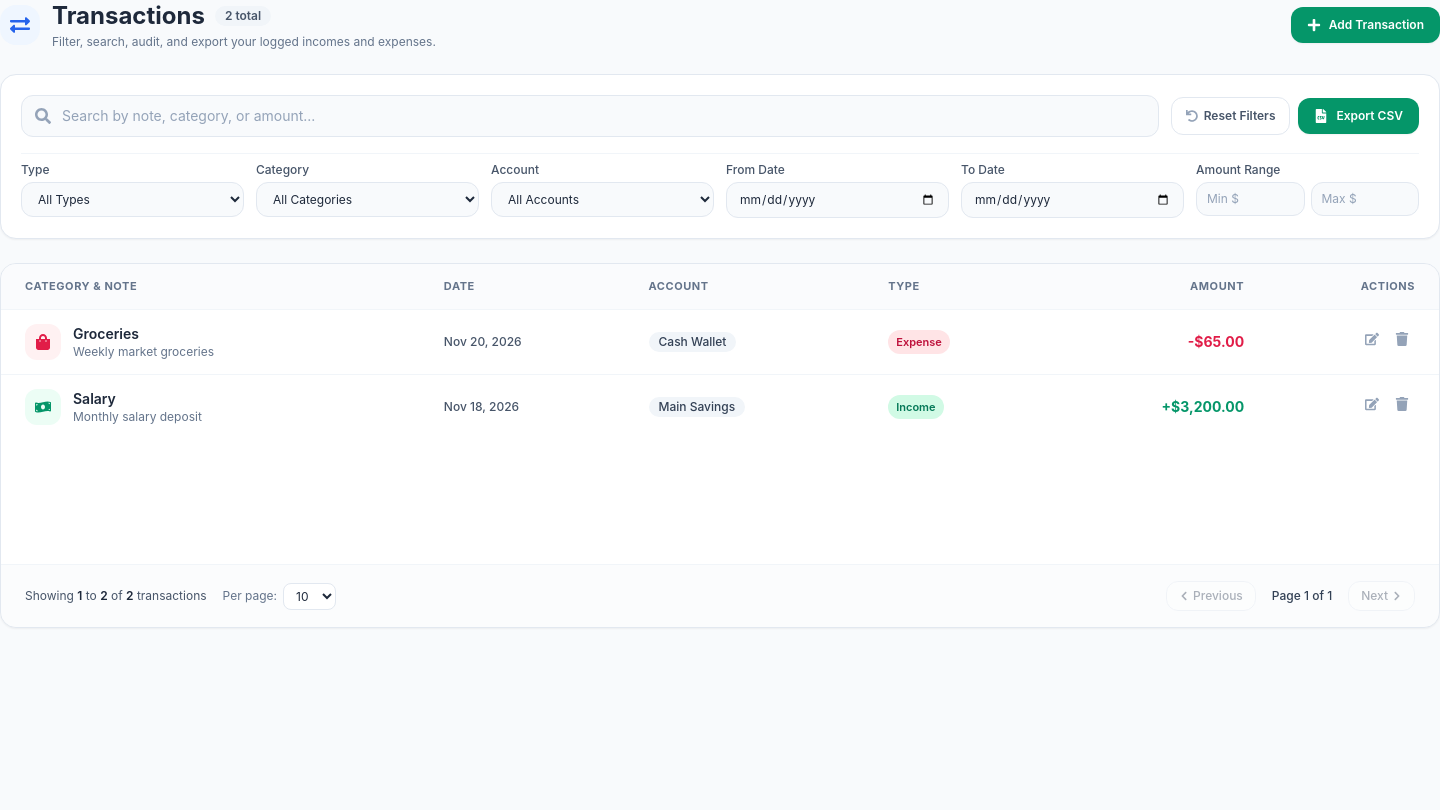
Test: TransactionsPage Component › opens TransactionModal in Edit mode when row edit button is clicked
This screenshot has width=1440, height=810.
Click the button named "edit transaction".
click(1372, 339)  # box left=1359, top=326, right=1385, bottom=352
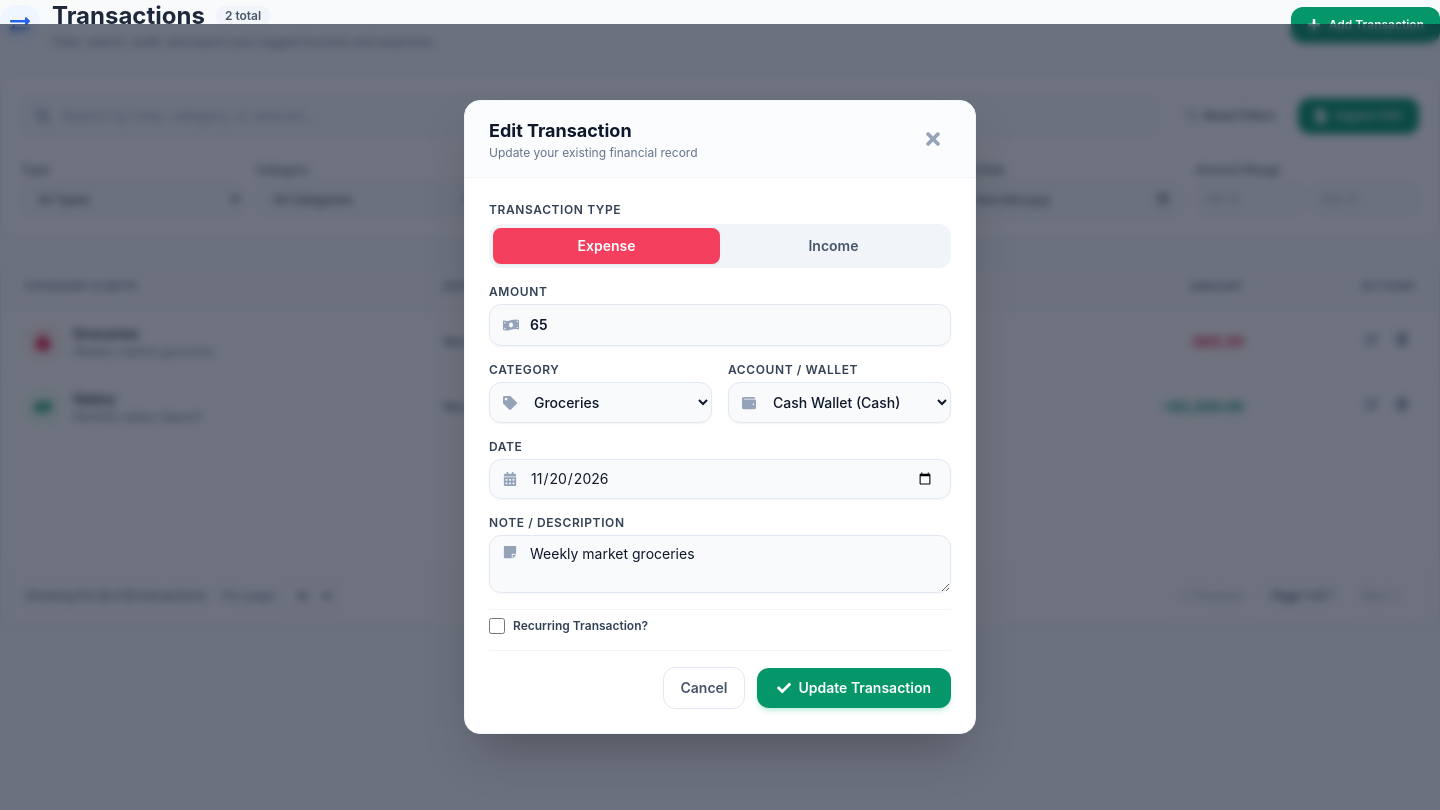
Expected: the heading "Edit Transaction" is shown, left=489, top=120, right=632, bottom=141
Expected: the text box showing "Weekly market groceries" is shown, left=489, top=535, right=951, bottom=593
